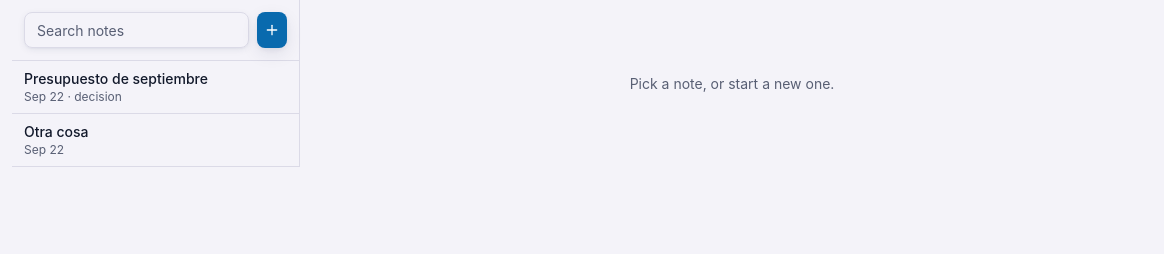
Test: the notes page › shows why the last analysis failed instead of an empty category
Step 1. Click the text "Presupuesto de septiembre" → (116, 78), box x1=24 y1=70 x2=208 y2=87
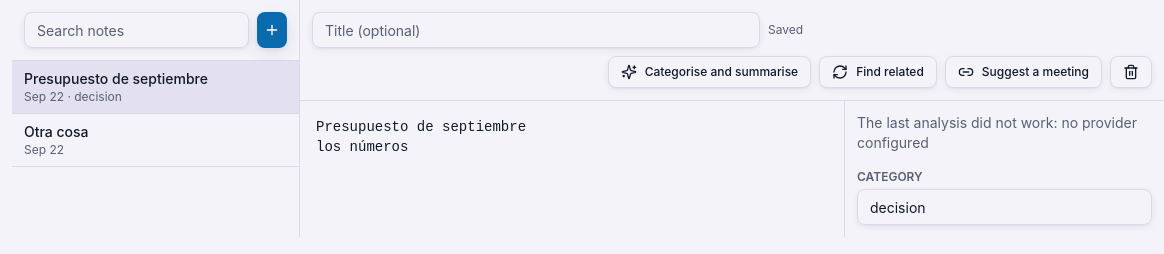
expect the text "The last analysis did not work: no provider configured" is shown: met, box x1=857 y1=113 x2=1152 y2=153
